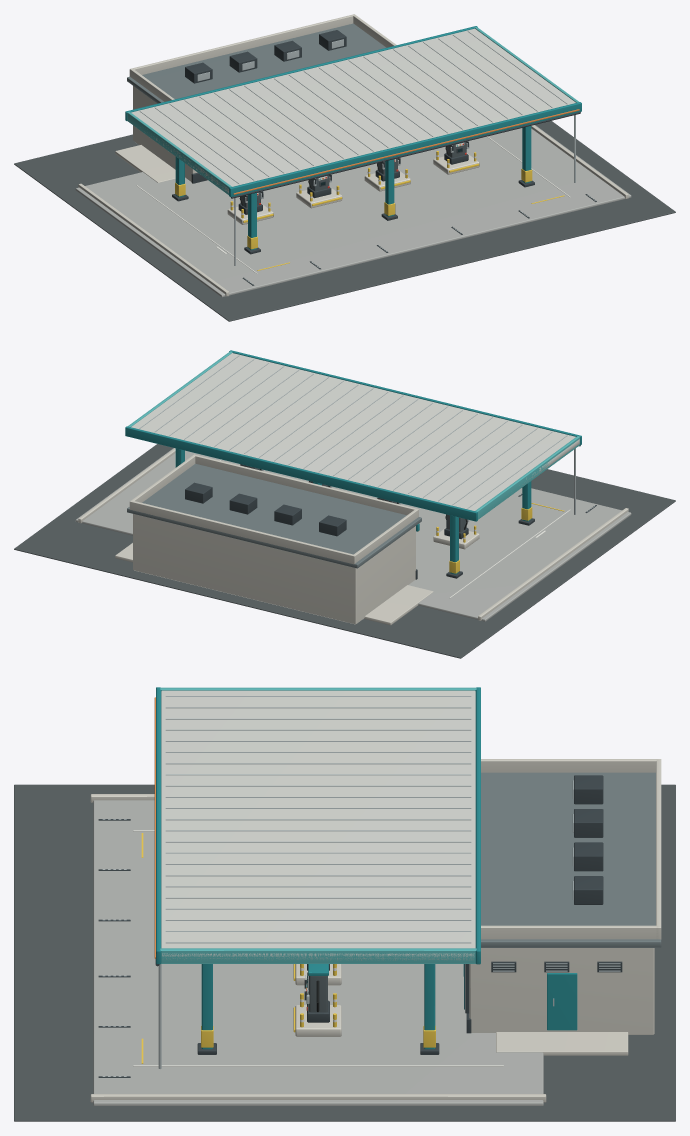
Rendered from petrol_station.fbx.
3 views of the same model, one above another, from view 1: azimuth 30°, elevation 25°; view 2: azimuth 150°, elevation 25°; view 3: azimuth 270°, elevation 25° (orthographic). The views are drawn at different scales.
Parts seen in each view (by area): view 1: Concrete forecourt slab, Main fuel canopy roof, Petrol station asphalt base, Store roof slab, Canopy front fascia, Store rear roof parapet, Canopy end fascia, Shop pedestrian apron, Canopy rear fascia, Convenience store main building, Forecourt side kerb, Canopy front rain gutter (+2 smaller); view 2: Main fuel canopy roof, Petrol station asphalt base, Concrete forecourt slab, Convenience store main building, Store roof slab, Canopy rear fascia, Store rear roof parapet, Store front roof parapet, Shop pedestrian apron, Canopy front fascia, Canopy end fascia, Forecourt side kerb (+4 smaller); view 3: Main fuel canopy roof, Concrete forecourt slab, Petrol station asphalt base, Store roof slab, Convenience store main building, Canopy end fascia.001, Shop pedestrian apron, Forecourt side kerb.001, Store side roof parapet.001, Store side roof parapet, Store side service door, Canopy front fascia (+12 smaller).
Boxes of the visible parts, x1=… form: Concrete forecourt slab: x1=75, y1=125, x2=631, y2=297; Main fuel canopy roof: x1=131, y1=28, x2=575, y2=192; Petrol station asphalt base: x1=14, y1=121, x2=675, y2=321; Store roof slab: x1=127, y1=23, x2=386, y2=103; Canopy front fascia: x1=229, y1=102, x2=581, y2=197; Store rear roof parapet: x1=129, y1=14, x2=355, y2=76; Canopy end fascia: x1=127, y1=111, x2=231, y2=194; Shop pedestrian apron: x1=115, y1=145, x2=175, y2=182; Canopy rear fascia: x1=125, y1=26, x2=477, y2=120; Convenience store main building: x1=133, y1=86, x2=197, y2=181; Forecourt side kerb: x1=78, y1=183, x2=229, y2=296; Canopy front rain gutter: x1=231, y1=112, x2=580, y2=198; Main fuel canopy roof: x1=131, y1=353, x2=579, y2=510; Petrol station asphalt base: x1=14, y1=444, x2=675, y2=658; Concrete forecourt slab: x1=75, y1=448, x2=631, y2=621; Convenience store main building: x1=133, y1=514, x2=415, y2=624; Store roof slab: x1=127, y1=463, x2=421, y2=568; Canopy rear fascia: x1=125, y1=426, x2=477, y2=521; Store rear roof parapet: x1=129, y1=501, x2=356, y2=564; Store front roof parapet: x1=193, y1=454, x2=418, y2=516; Shop pedestrian apron: x1=115, y1=543, x2=433, y2=625; Canopy front fascia: x1=229, y1=350, x2=581, y2=445; Canopy end fascia: x1=475, y1=436, x2=579, y2=519; Forecourt side kerb: x1=478, y1=508, x2=628, y2=620; Main fuel canopy roof: x1=161, y1=690, x2=475, y2=960; Concrete forecourt slab: x1=93, y1=800, x2=543, y2=1105; Petrol station asphalt base: x1=14, y1=784, x2=675, y2=1121; Store roof slab: x1=481, y1=772, x2=661, y2=947; Convenience store main building: x1=469, y1=948, x2=654, y2=1034; Canopy end fascia.001: x1=160, y1=948, x2=476, y2=963; Shop pedestrian apron: x1=496, y1=1032, x2=628, y2=1055; Forecourt side kerb.001: x1=90, y1=1094, x2=546, y2=1102; Store side roof parapet.001: x1=481, y1=925, x2=657, y2=939; Store side roof parapet: x1=481, y1=759, x2=657, y2=772; Store side service door: x1=547, y1=973, x2=577, y2=1030; Canopy front fascia: x1=156, y1=687, x2=161, y2=964.
Bounding box in the file's own units: 3000 × 564 × 2500.
